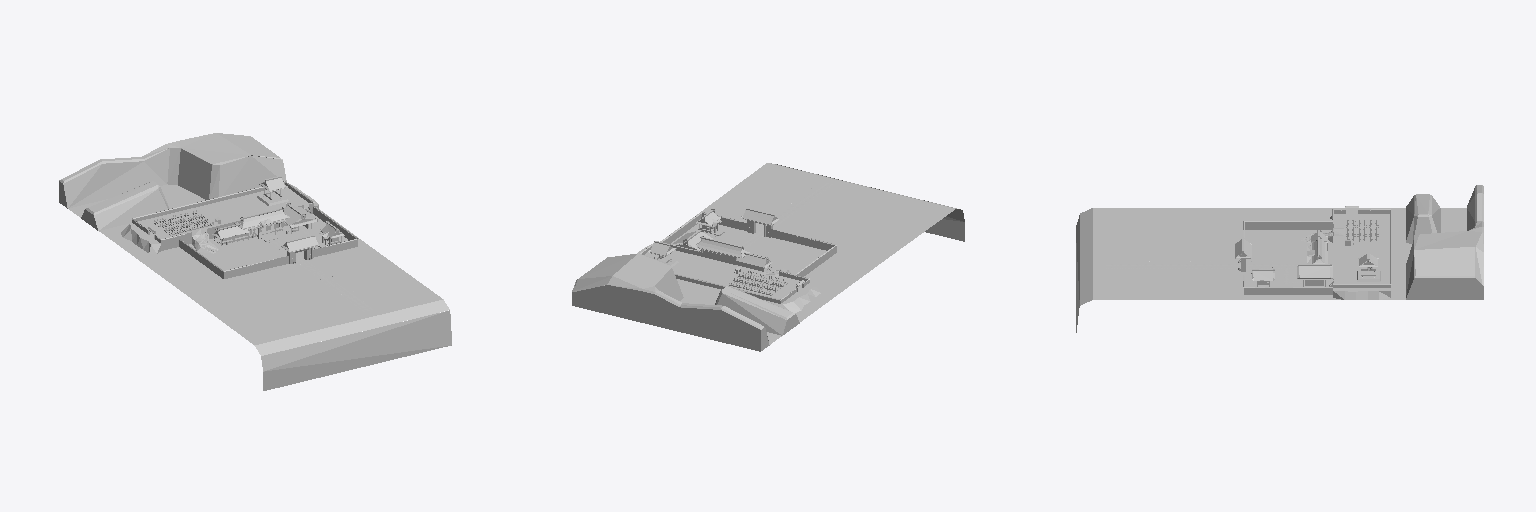
File: terrain-collision.obj
3 renders of one model, left to right at view 1: azimuth 30°, elevation 25°; view 2: azimuth 150°, elevation 25°; view 3: azimuth 270°, elevation 25°, orthographic.
Parts seen in each view (by area): view 1: _mesh_Untitled; view 2: _mesh_Untitled; view 3: _mesh_Untitled.
Part boxes in pixels (x1,y1,x2,y2): _mesh_Untitled: (59,133,451,390); _mesh_Untitled: (572,163,964,351); _mesh_Untitled: (1076,185,1483,332).
Bounding box in the file's own units: 133 × 50.37 × 248.